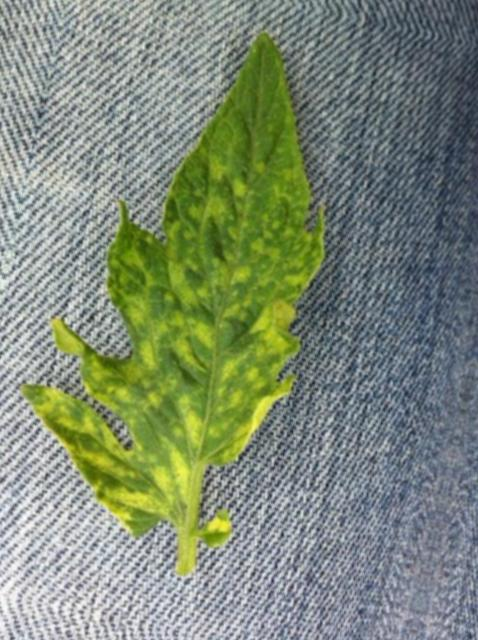Tomato leaf mosaic virus: (0, 0, 381, 610)
